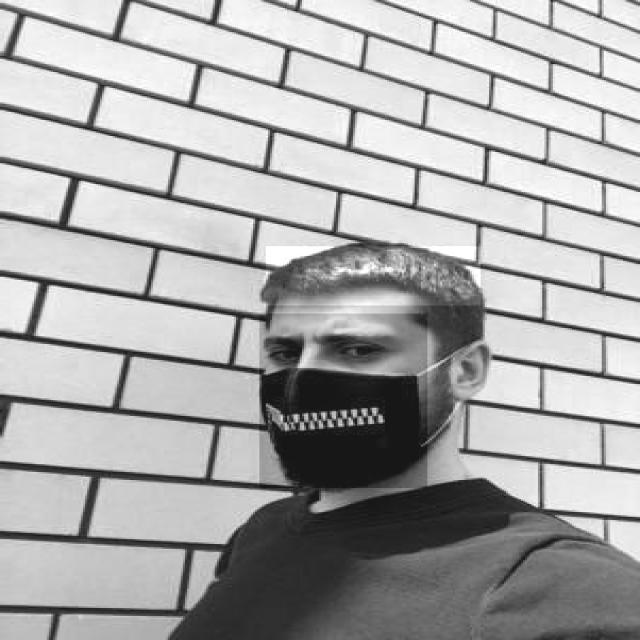face_mask: (260, 314, 428, 488)
head_nohelmet: (264, 247, 481, 306)
person: (98, 277, 559, 638)
